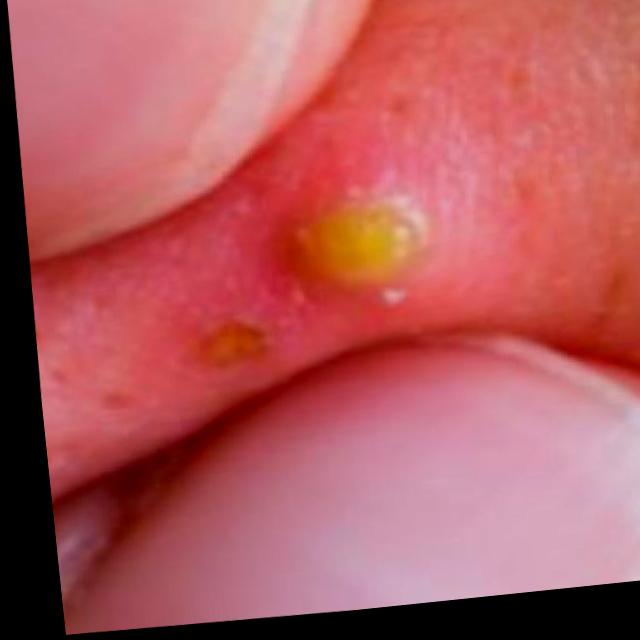pustule: (299, 178, 435, 312)
